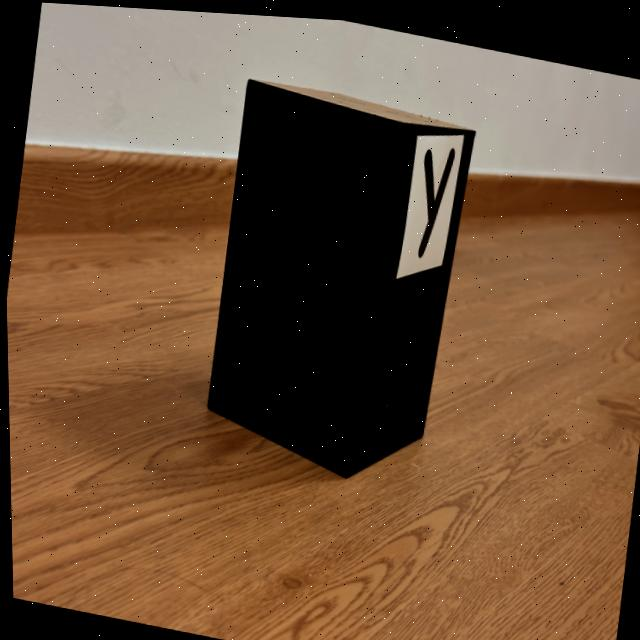Y: (417, 142, 454, 253)
